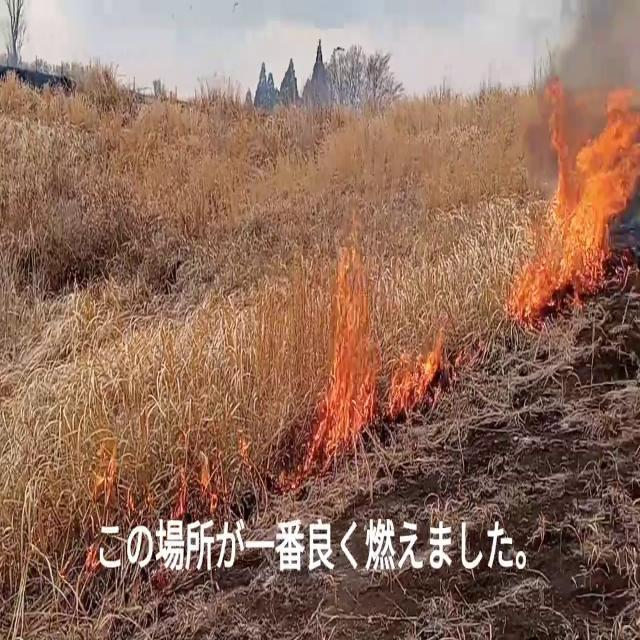Fire: (511, 80, 640, 308), (308, 196, 396, 459)
